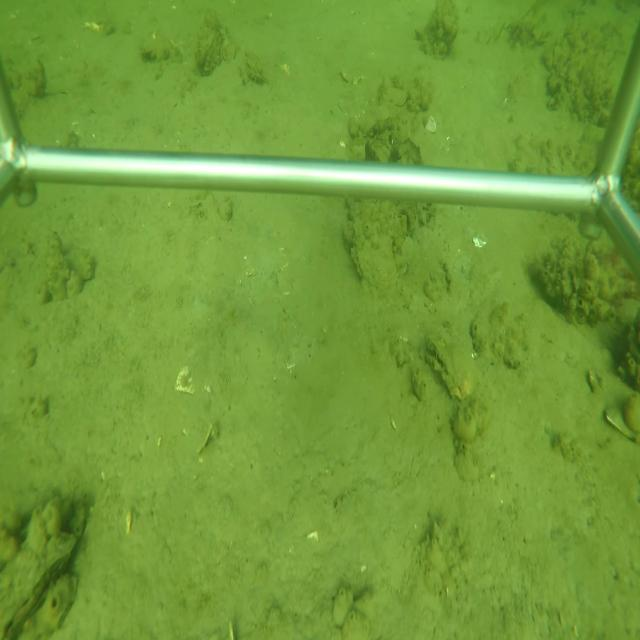Oyster-Closed: (0, 531, 78, 640), (350, 202, 400, 301)
Oyster-Open: (423, 319, 484, 406)
